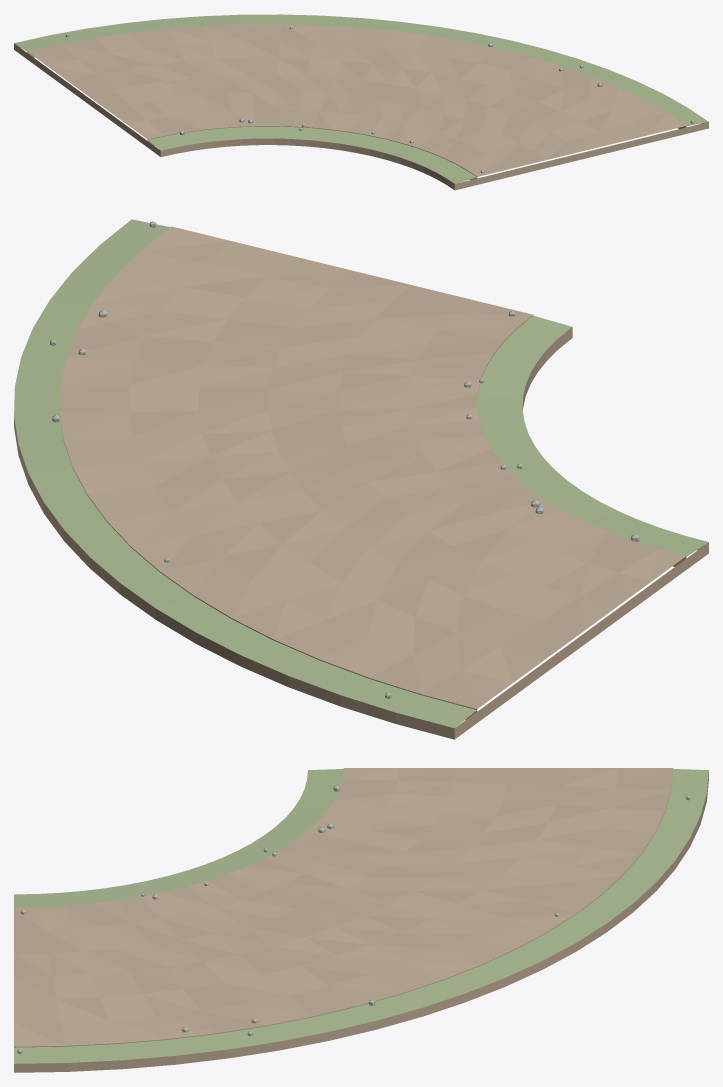
Rendered from dirt_curve.glb.
3 renders of one model, top to bottom at view 1: azimuth 30°, elevation 25°; view 2: azimuth 150°, elevation 25°; view 3: azimuth 270°, elevation 25°, orthographic. The views are drawn at different scales.
Visible parts, largest first — view 1: Body.007; view 2: Body.007; view 3: Body.007.
Part boxes in pixels (x1,y1,x2,y2): Body.007: (14, 14, 708, 190); Body.007: (14, 219, 708, 739); Body.007: (14, 768, 708, 1072).
Bounding box in the file's own units: 12.65 × 0.3123 × 12.65.
